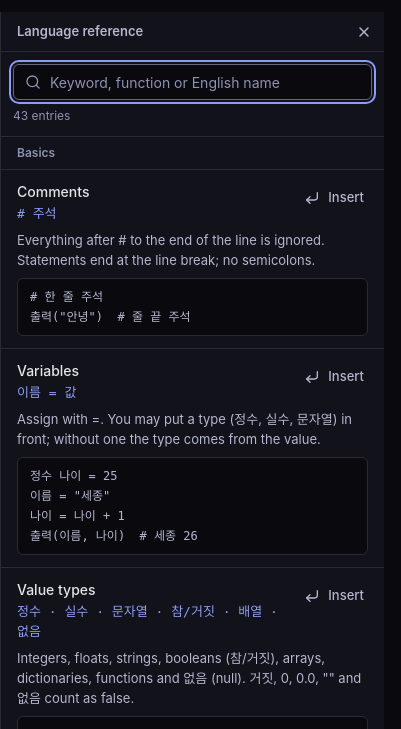
Test case: ReferencePanel › explains an empty result and clears the search
Type "qqqq" into the search field named "Search the reference".
click(192, 82); type("qqqq")  # box [13,64,372,100]
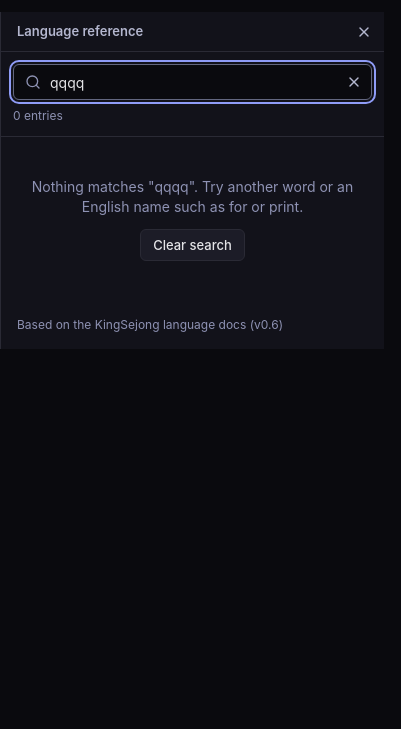
Check: the text "Nothing matches \"qqqq\". Try another word or an English name such as for or print." is shown, box [32,178,353,215]
Click the button "Clear search".
click(192, 245)  # box [140,229,245,261]
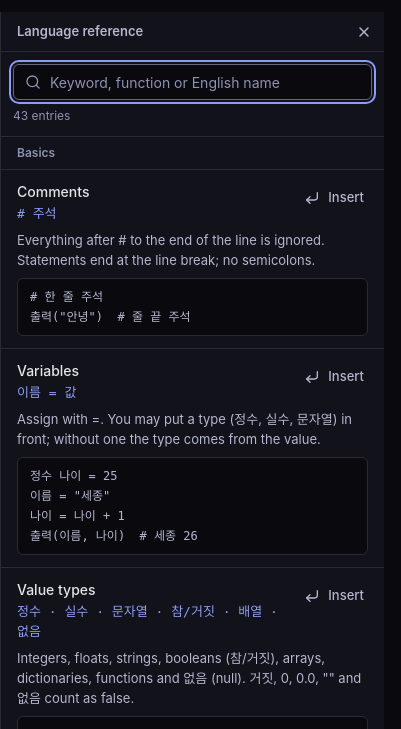
Check: the search field named "Search the reference" is empty
Check: the button "Clear search" is gone
Type "print" into the search field named "Search the reference".
click(192, 82); type("print")  # box [13,64,372,100]
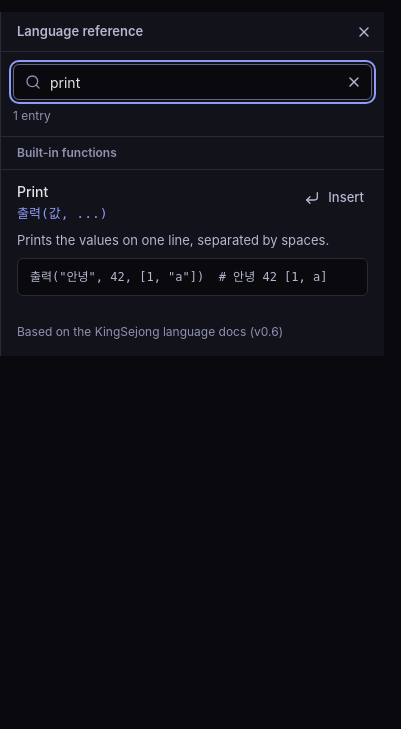
Click the button named "Clear search".
click(354, 82)  # box [338,66,370,98]
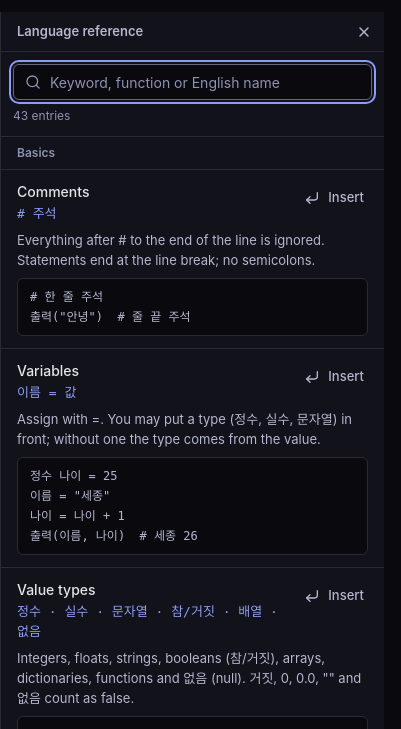
Check: the search field named "Search the reference" is empty, box [13,64,372,100]
